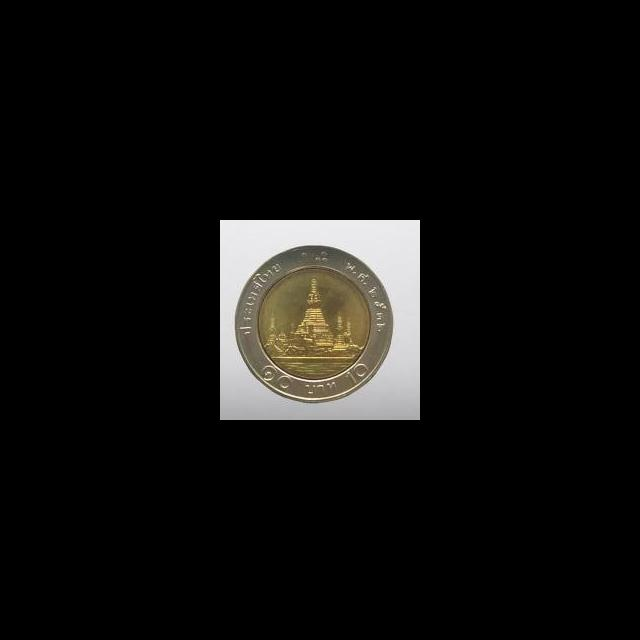10-baht: (227, 235, 405, 414)
